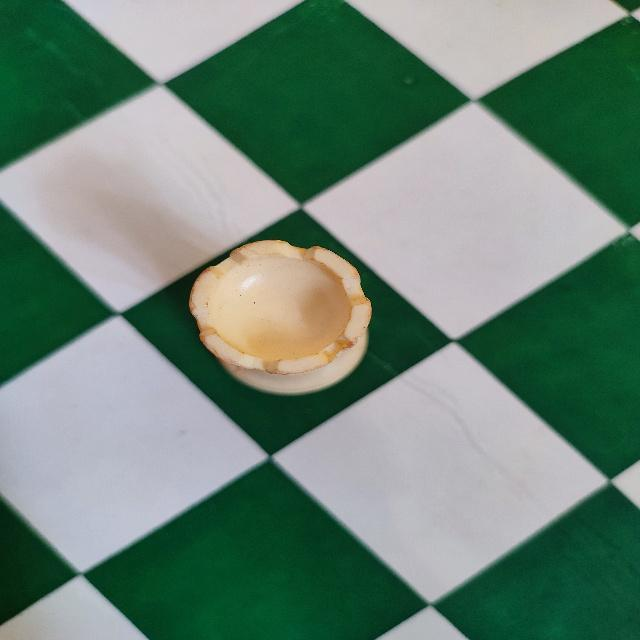Rook: (184, 232, 376, 399)
